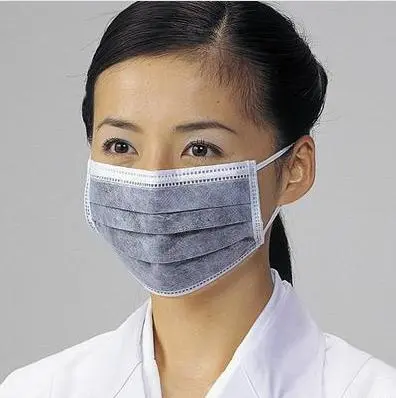withmask: (68, 4, 332, 300)
